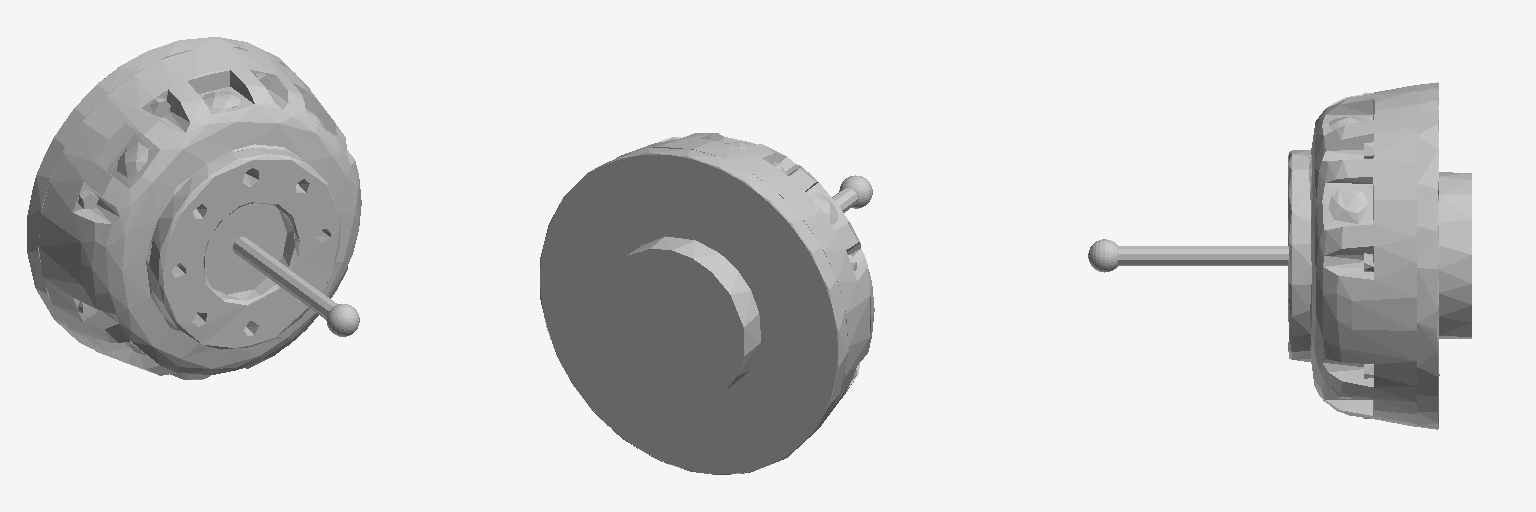
The model's file is link_7_ext.obj.
3 renders of one model, left to right at view 1: azimuth 30°, elevation 25°; view 2: azimuth 150°, elevation 25°; view 3: azimuth 270°, elevation 25°, orthographic.
Visible parts, largest first — view 1: Cylinder; view 2: Cylinder; view 3: Cylinder.
Boxes of the visible parts, x1=… form: Cylinder: x1=27, y1=37, x2=361, y2=379; Cylinder: x1=540, y1=133, x2=874, y2=474; Cylinder: x1=1088, y1=82, x2=1471, y2=429.
Size of the model in its own units: 0.1036 by 0.1041 by 0.1149.